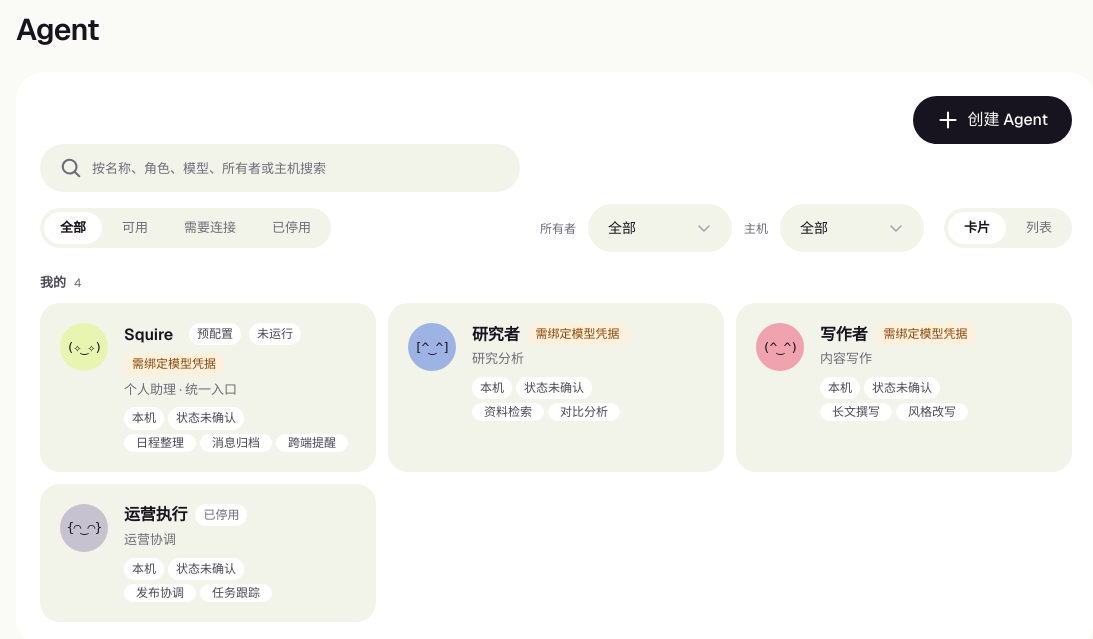
Test case: Agent 详情的管理面板（注入扩展数据） › 显示运行状态与 harness·模型
Step 1. Click the button with test id "contact-agent-squire" → (208, 387), box top-left (40, 303), bottom-right (376, 472)
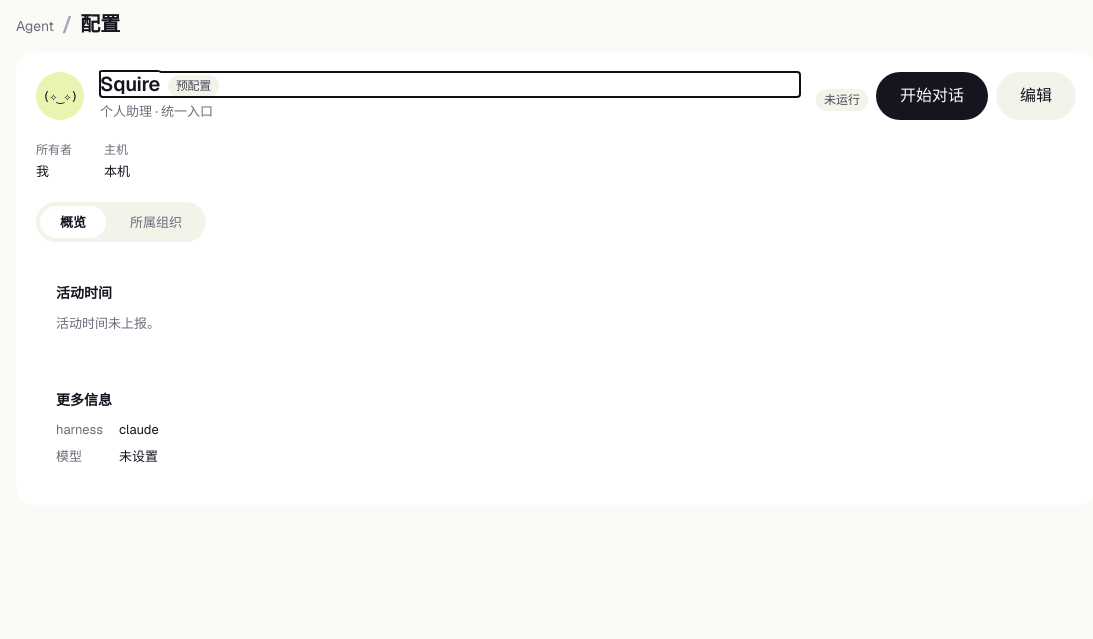
Now the text with test id "overview-harness" reads "claude", box top-left (119, 421), bottom-right (159, 438)
Now the button "凭据" is gone
